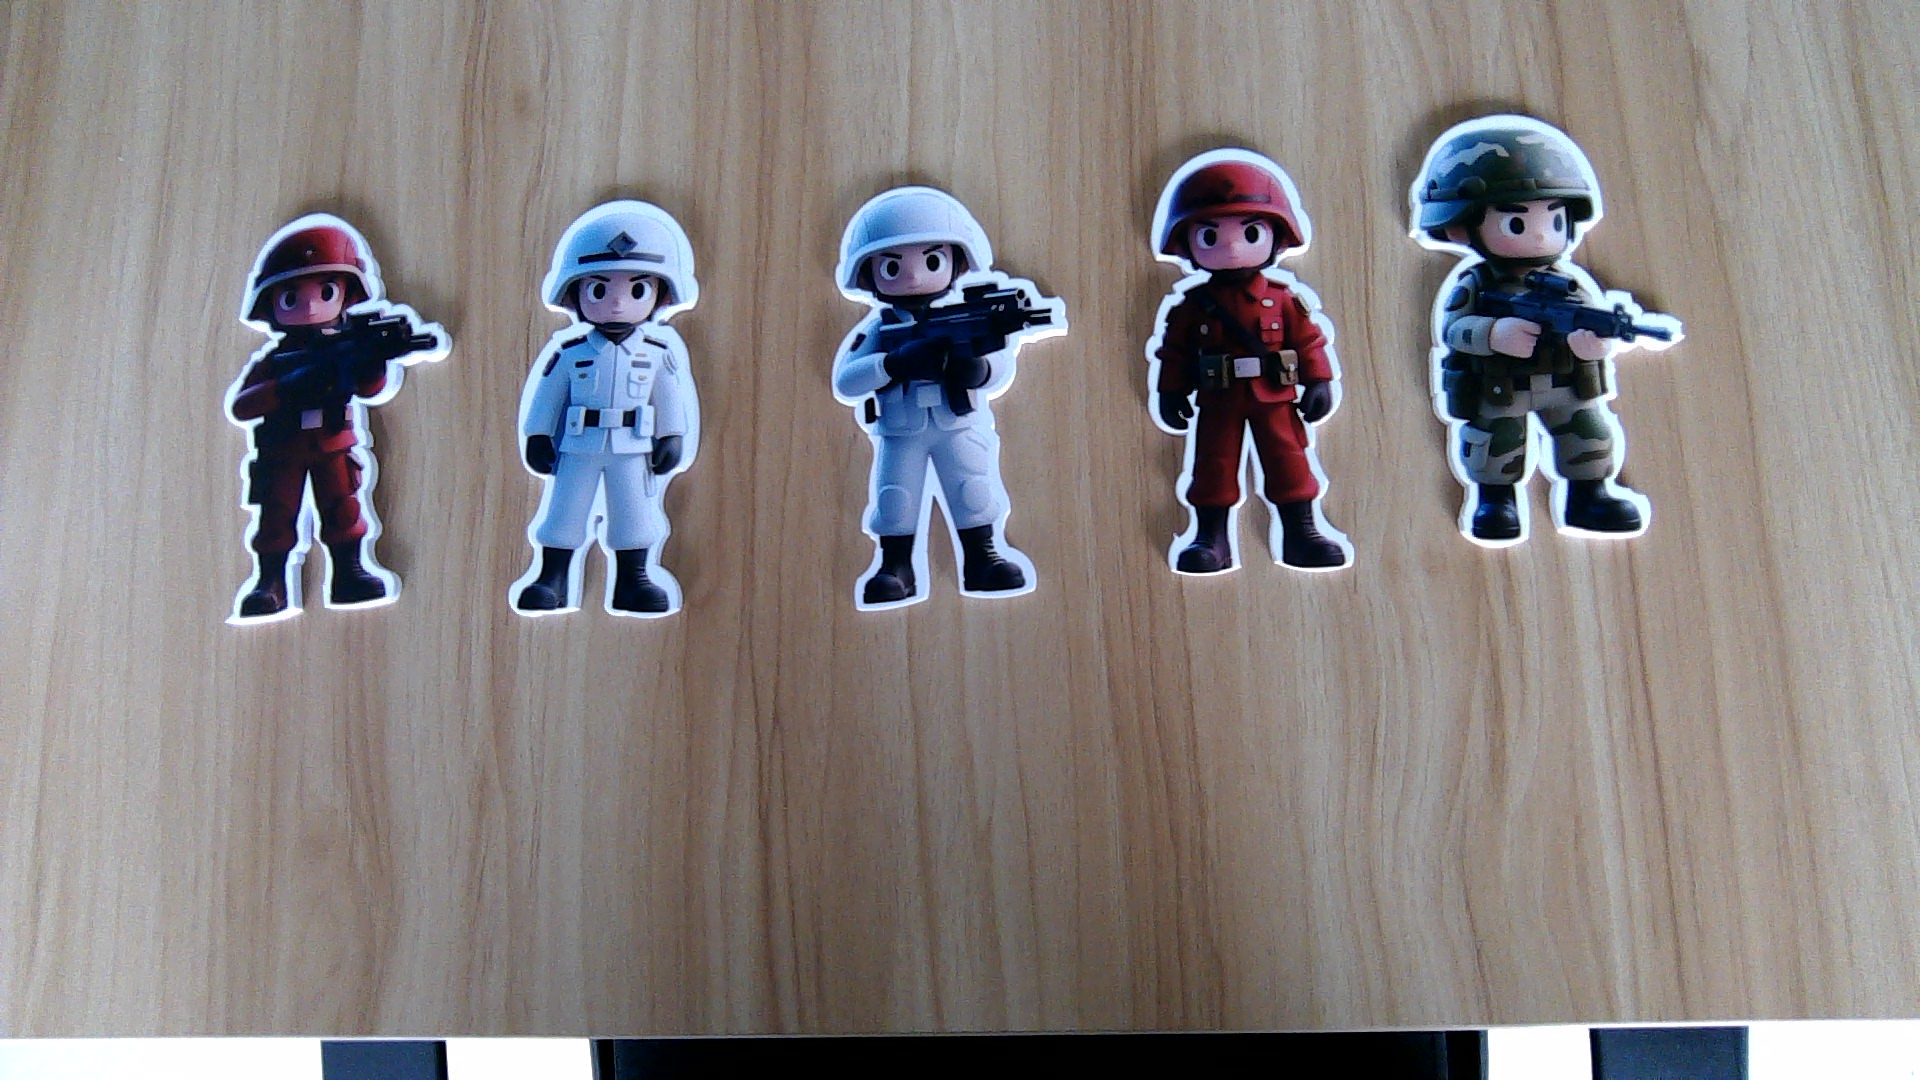人质: (822, 301, 1067, 615), (497, 323, 709, 620)
友军: (1424, 258, 1679, 546)
敌人1: (212, 324, 446, 621), (1139, 276, 1361, 576)
